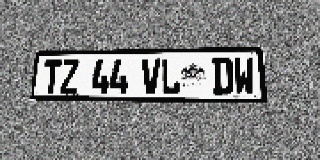4: (91, 59, 110, 94), (110, 59, 129, 94)
D: (212, 57, 234, 95)
L: (161, 58, 180, 94)
T: (43, 60, 62, 94)
V: (141, 58, 161, 94)
W: (233, 57, 255, 95)
Z: (60, 60, 79, 94)
